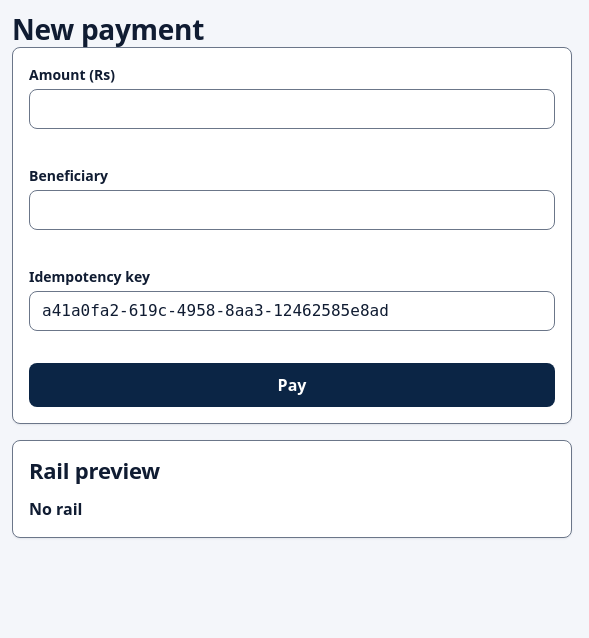
it: invalid response id is a generic error, no navigation
Type "5" into the field labelled "Amount (Rs)". click: (292, 109)
box: [29,89,555,129]
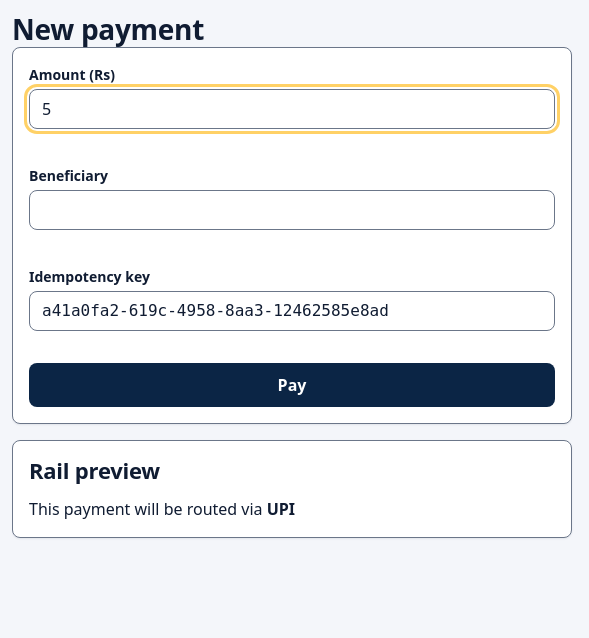
Type "Acme" into the field labelled "Beneficiary". click: (292, 210)
box: [29,190,555,230]
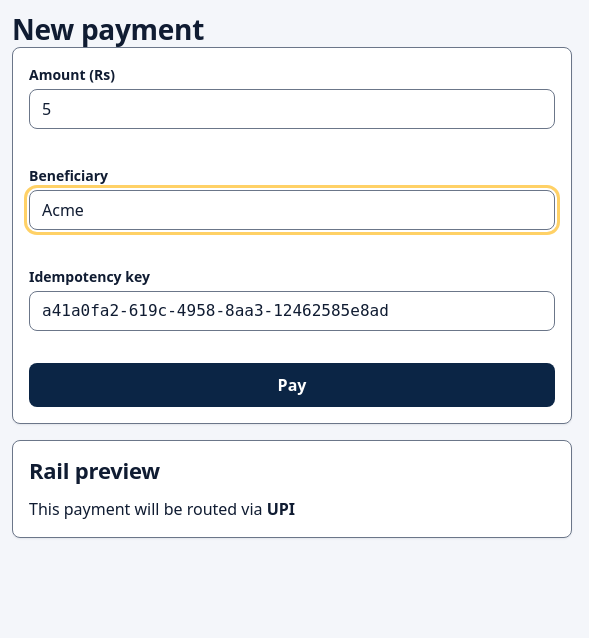
Click the button "Pay". click: (292, 385)
box: [29,363,555,407]
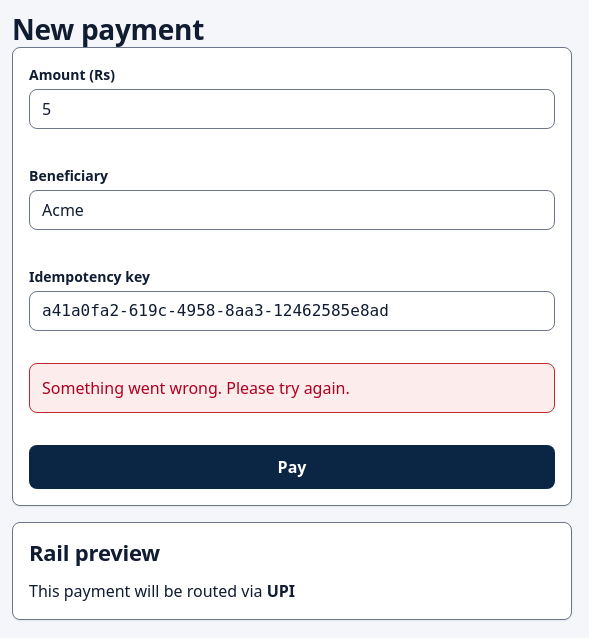
Check: the text "Something went wrong. Please try again." is shown, box [29,363,555,413]
